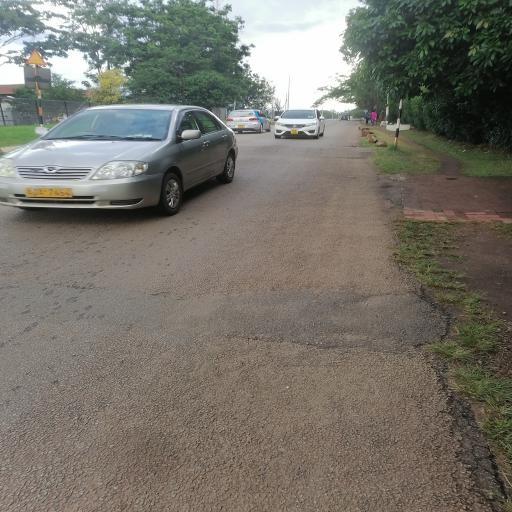number-plates: (22, 184, 80, 203)
